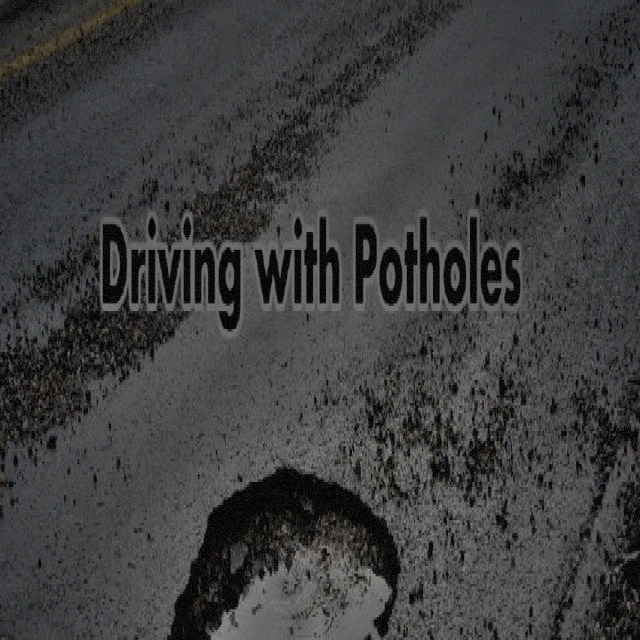pothole: (162, 456, 402, 635)
